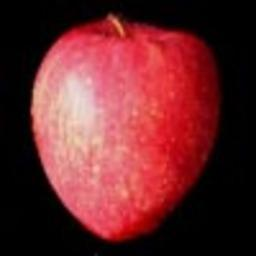apple: (28, 11, 221, 245)
